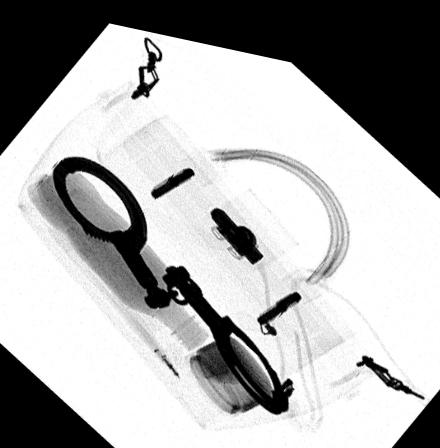HandCuffs: (51, 149, 290, 405)
